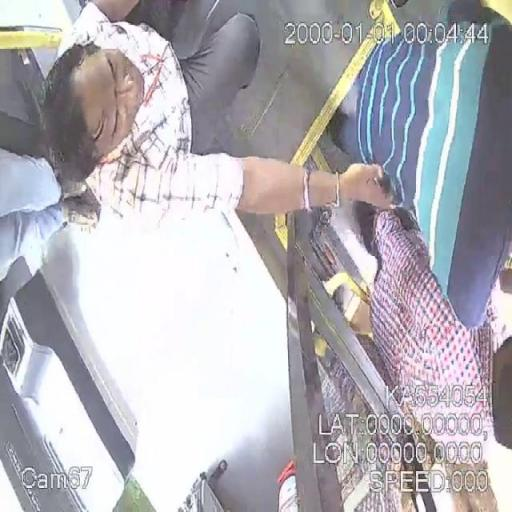persona: (41, 1, 390, 252), (324, 1, 511, 335), (344, 208, 512, 466)
